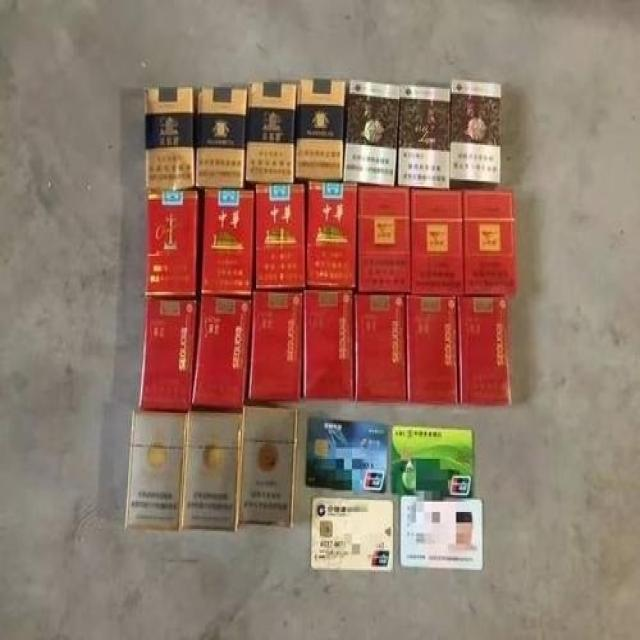box: (124, 411, 191, 532), (179, 411, 243, 532), (237, 408, 297, 531), (191, 294, 253, 410), (138, 292, 197, 411), (305, 415, 392, 493), (300, 285, 356, 399), (353, 292, 410, 404), (401, 495, 483, 572), (310, 497, 393, 572), (250, 290, 307, 399), (390, 427, 475, 500), (407, 294, 460, 408), (343, 79, 399, 186), (201, 188, 255, 297), (358, 183, 411, 294), (458, 297, 511, 408), (462, 191, 517, 297), (195, 85, 250, 189), (410, 188, 463, 295), (253, 184, 306, 290), (305, 183, 358, 288), (145, 188, 197, 295), (449, 79, 502, 183), (244, 82, 297, 184), (398, 84, 449, 189), (294, 80, 347, 181), (145, 85, 196, 189)
